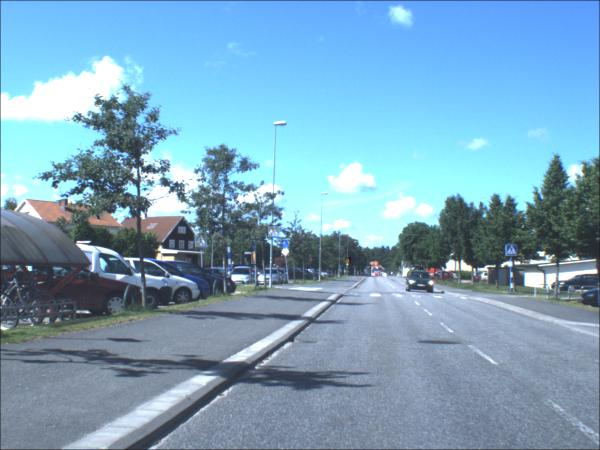GIVE_WAY: (251, 255, 257, 267)
PEDESTRIAN_CROSSING: (195, 236, 208, 249), (268, 227, 281, 239), (506, 246, 518, 257)
PRIORITY_ROAD: (281, 251, 290, 259)
WARNING: (346, 258, 352, 265)
